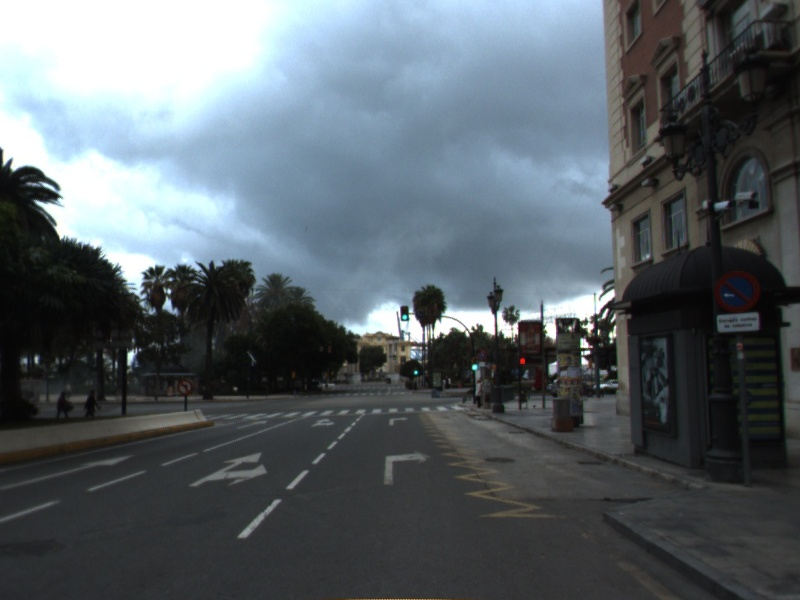RIGHT: (381, 447, 434, 488), (387, 414, 411, 428)
STRAIGHT: (1, 451, 140, 492), (234, 418, 271, 431)
STRAIGHT_RIGHT: (186, 449, 270, 489), (308, 416, 337, 429)
